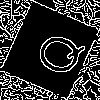Q: (25, 25, 88, 81)
